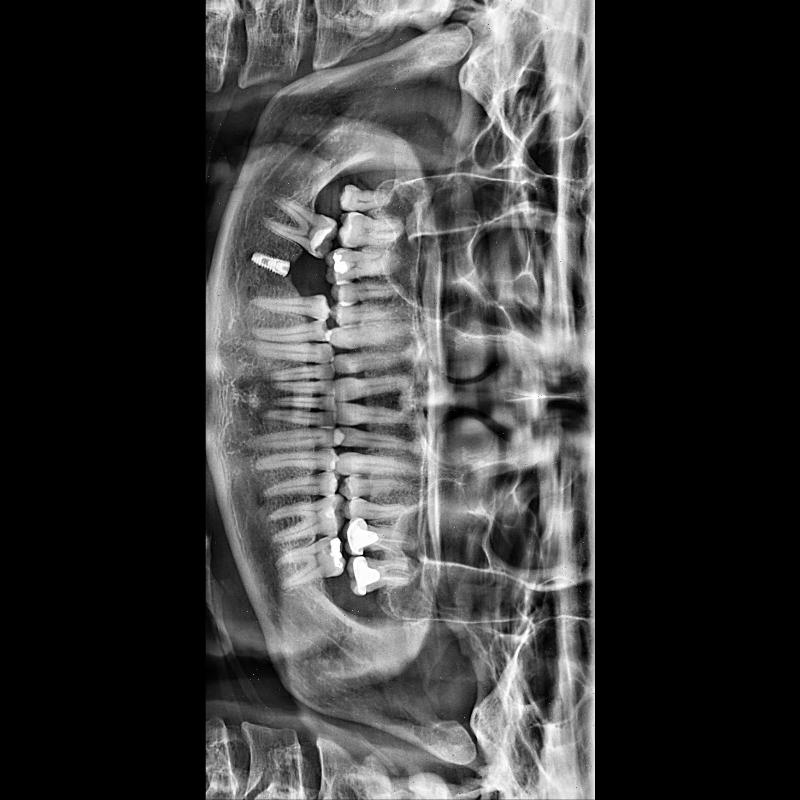osstem: (246, 248, 290, 278)
